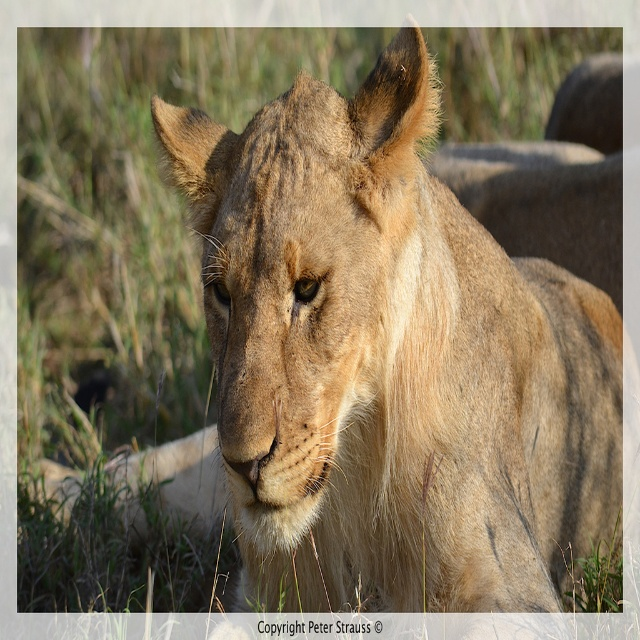Lion: (147, 10, 638, 639)
